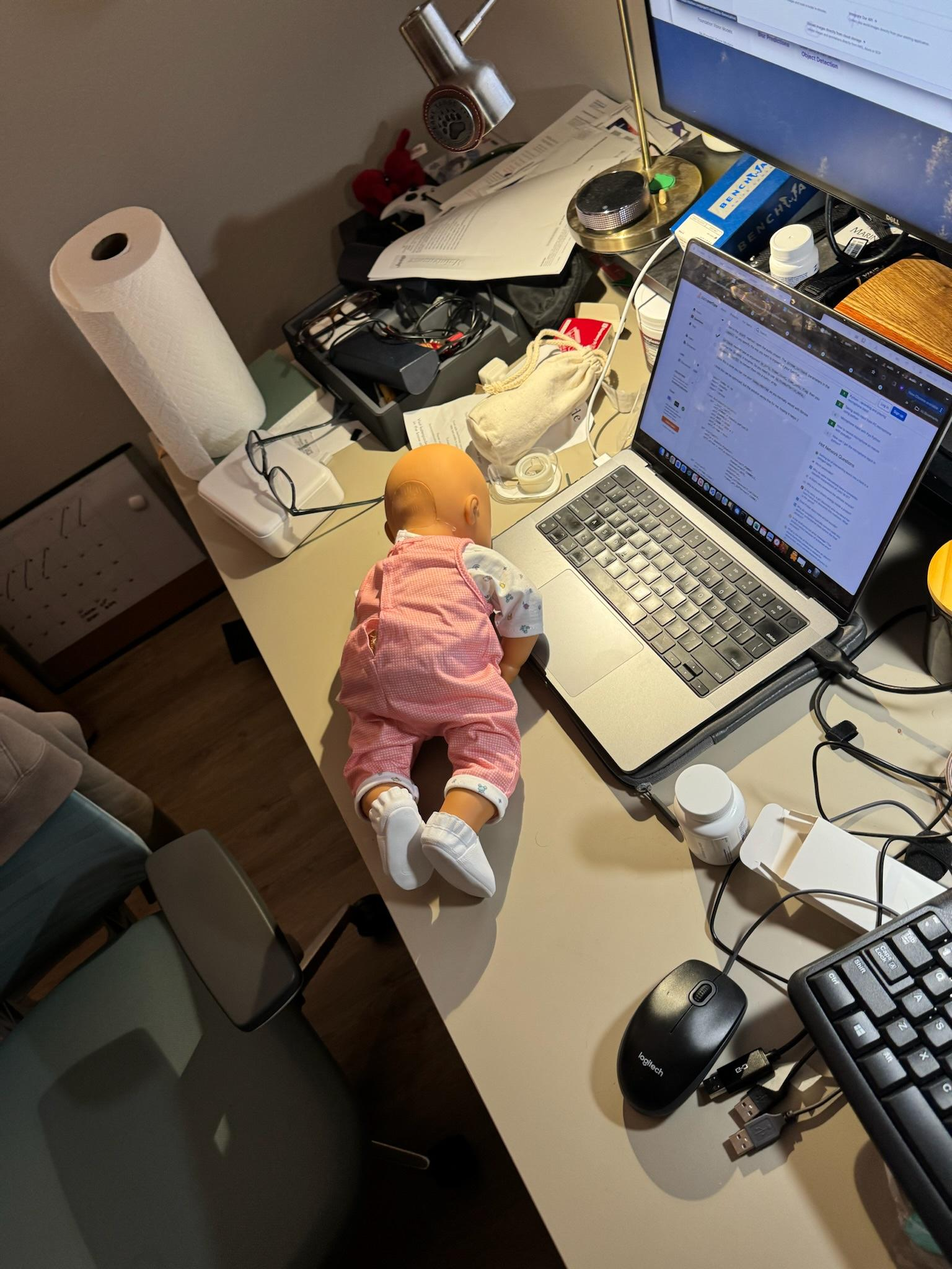baby: (310, 434, 568, 898)
